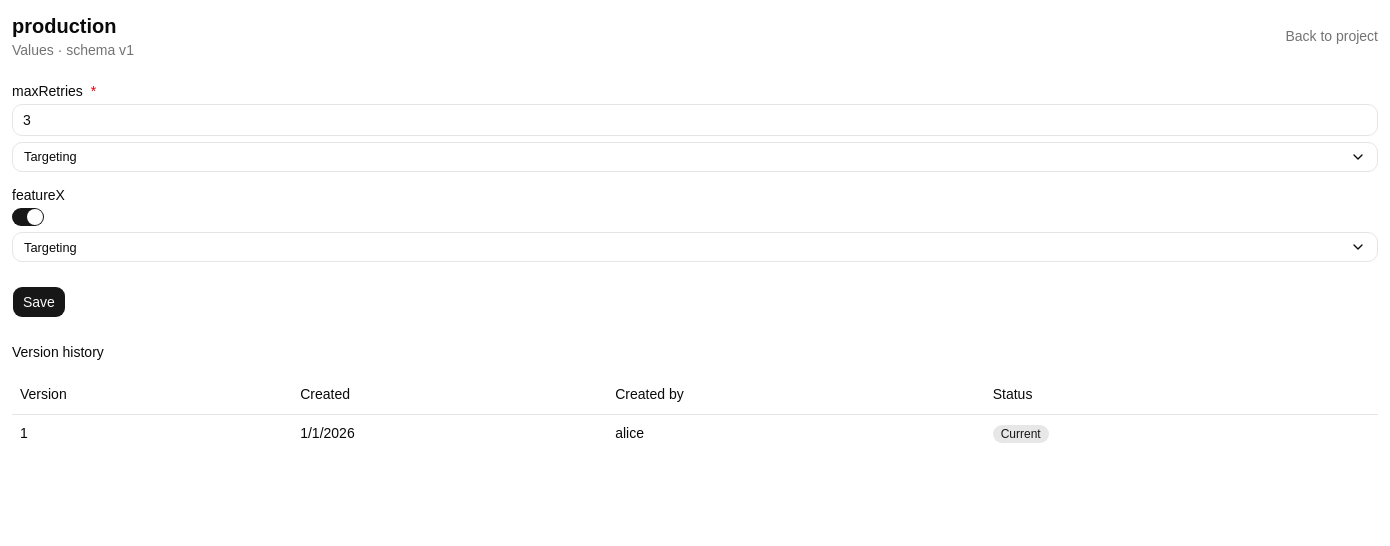
Test: EnvironmentPage › shows the server validation message on a 422
Check: the number field labelled "maxRetries" holds "3", box [12, 104, 1378, 136]
Click the button "Save".
click(39, 302)  # box [12, 286, 66, 318]
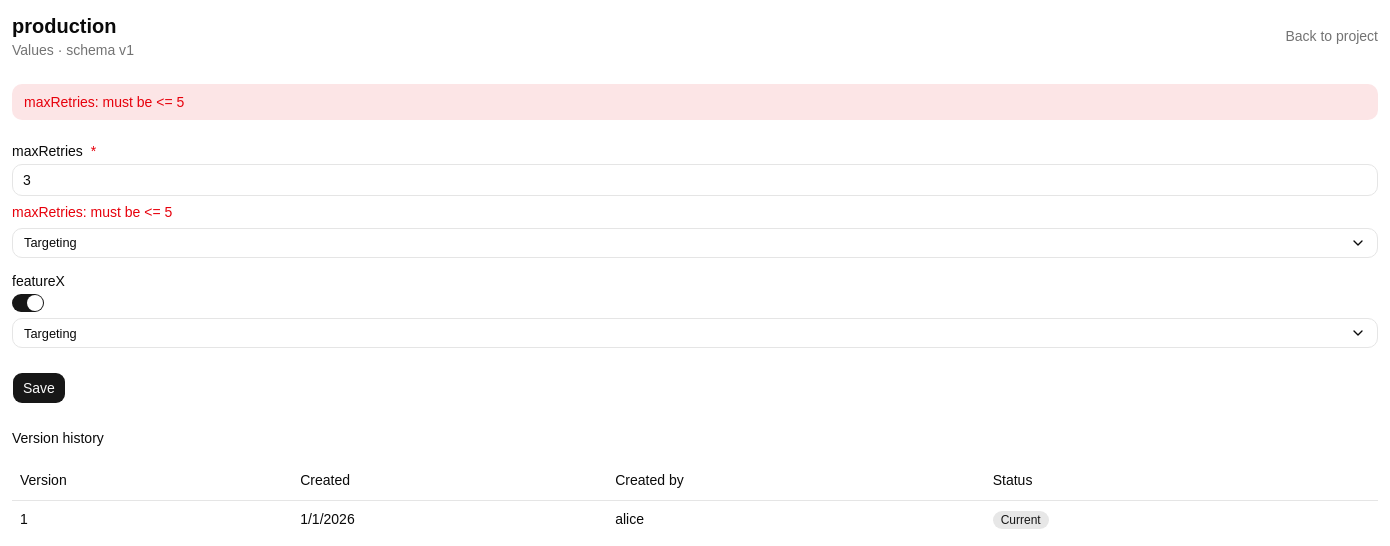
Check: the message shows "must be <= 5", box [24, 94, 184, 110]
